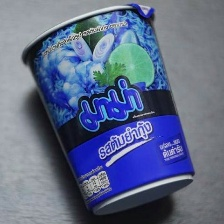paper_cup: (14, 0, 200, 222)
